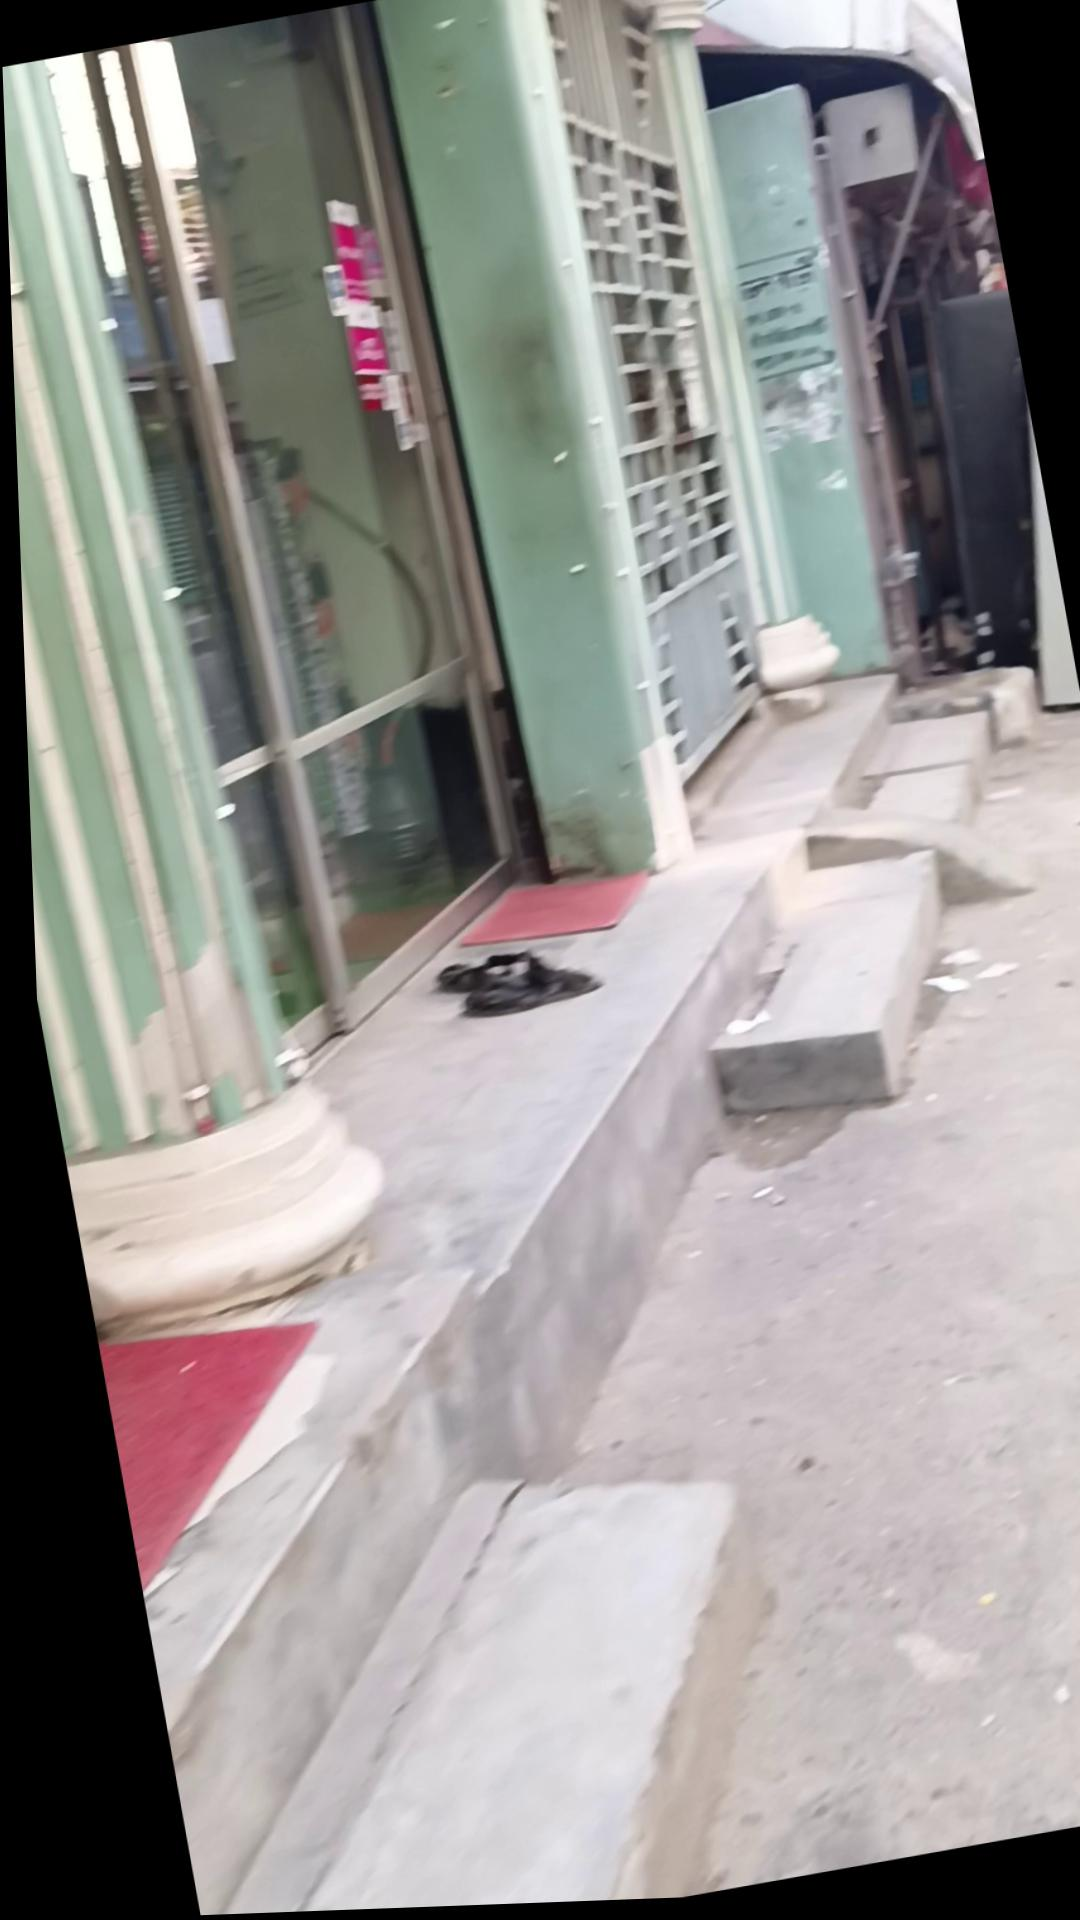Broken-road: (25, 840, 918, 1735), (642, 678, 1059, 1138)
Dog: (113, 34, 351, 1048), (629, 0, 812, 642)
